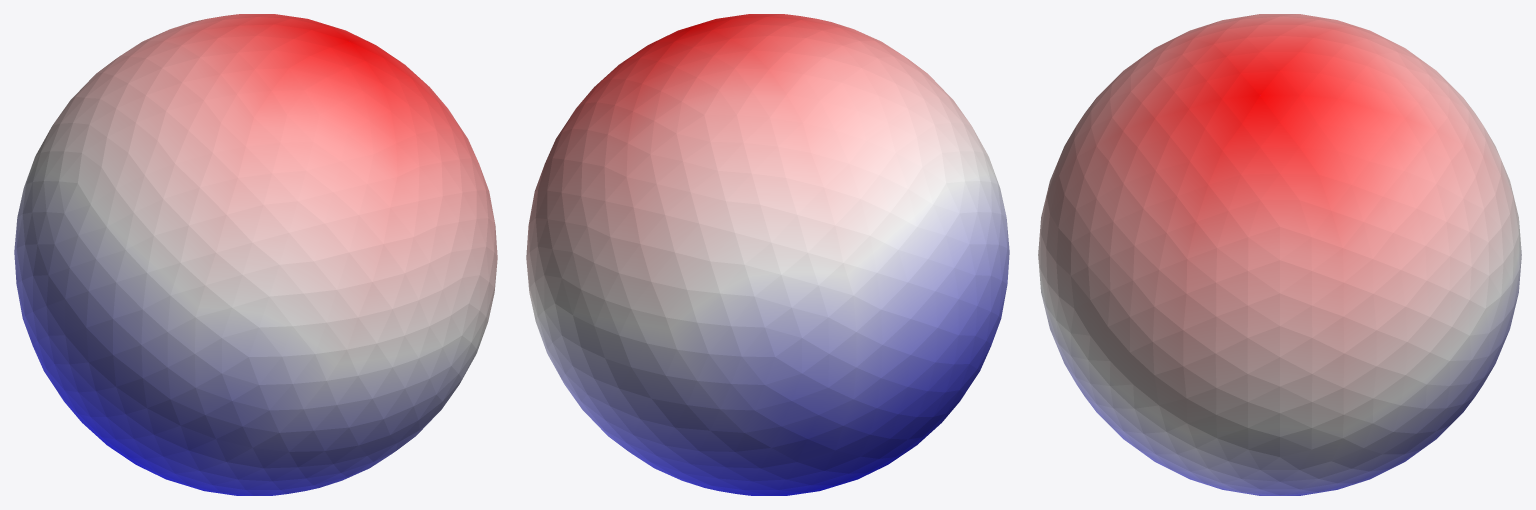
Rendered from GeodesicDijkstraTest.obj.
The picture shows the model from 3 angles, left to right: view 1: azimuth 30°, elevation 25°; view 2: azimuth 150°, elevation 25°; view 3: azimuth 270°, elevation 25°; orthographic projection.
Visible parts, largest first — view 1: GeodesicDijkstraTest; view 2: GeodesicDijkstraTest; view 3: GeodesicDijkstraTest.
Part boxes in pixels (x1=…): GeodesicDijkstraTest: x1=14, y1=14, x2=497, y2=495; GeodesicDijkstraTest: x1=526, y1=14, x2=1009, y2=495; GeodesicDijkstraTest: x1=1038, y1=14, x2=1521, y2=495.
Size of the model in its own units: 2 by 2 by 2.
Materials: 1 (1 with a texture image).
